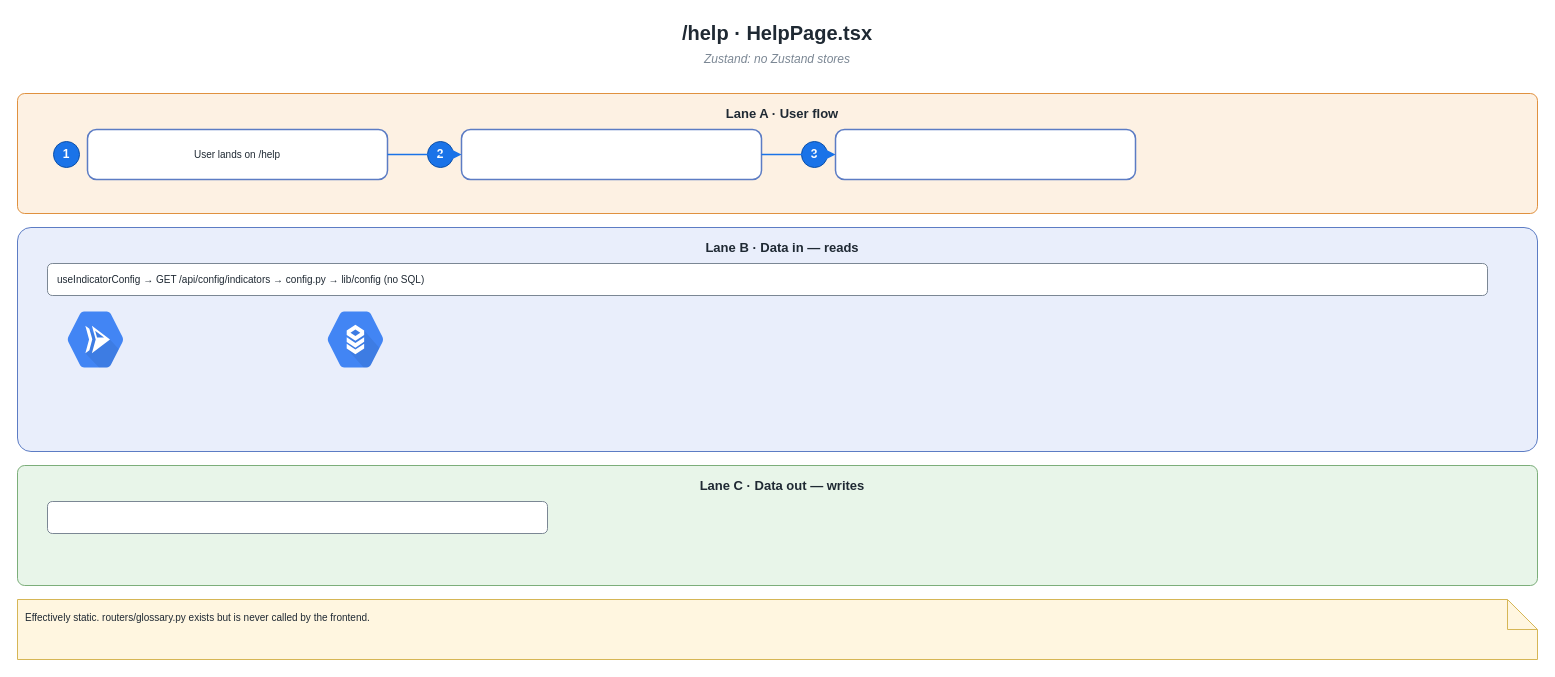
Image size: 1555x677. Some labels were removed from this diagram. The shapes that lost their labels are listed below. From the top down, each one's centre as x and y in pixels, then its label:
the point at 611,154: Static glossary renders
the point at 985,154: Indicator periods/thresholds filled from config endpoint
the point at 95,339: FastAPI routers config.py
the point at 355,339: Cloud SQL reads (none)
the point at 297,517: No write path — read-only page.
